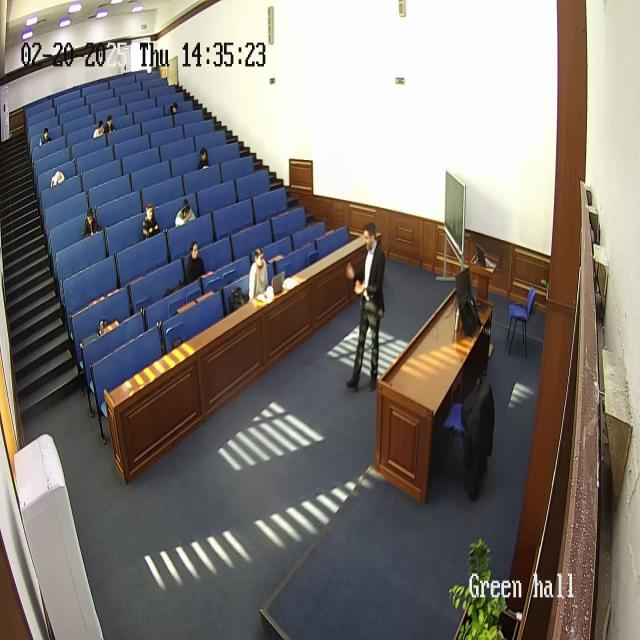person: (345, 223, 387, 391), (248, 246, 270, 302), (186, 239, 207, 285), (142, 202, 160, 238), (174, 197, 195, 226), (81, 206, 99, 238), (197, 146, 210, 170), (92, 118, 106, 139), (50, 170, 66, 188), (103, 114, 115, 134), (40, 127, 52, 145), (169, 102, 179, 115)
